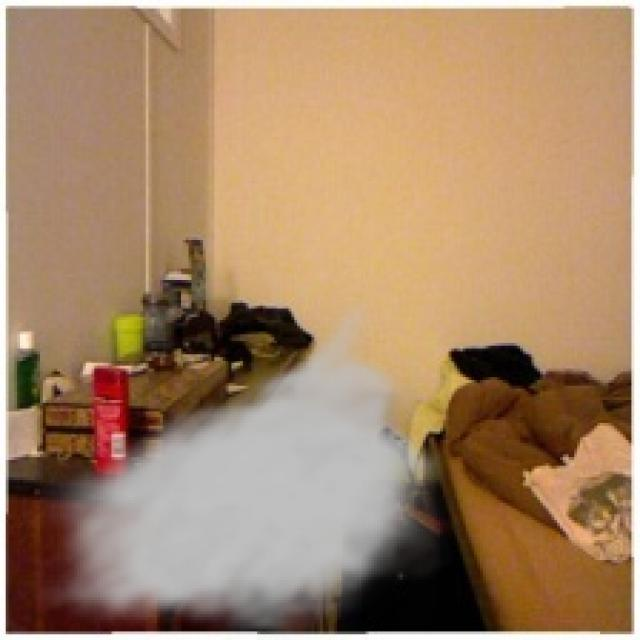smoke: (34, 292, 454, 637)
